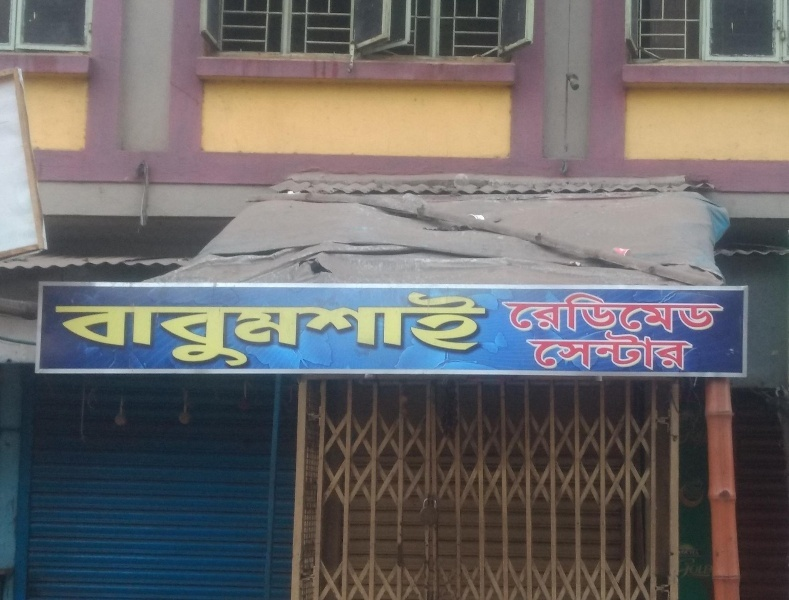text: (65, 290, 80, 368), (81, 290, 96, 368), (97, 290, 112, 368), (113, 290, 128, 368), (129, 290, 144, 368), (145, 290, 160, 368), (161, 290, 176, 368), (177, 290, 192, 368), (193, 290, 208, 368), (209, 290, 224, 368), (225, 290, 240, 368), (241, 290, 256, 368), (257, 290, 272, 368), (273, 290, 288, 368), (289, 290, 304, 368), (305, 290, 320, 368), (321, 290, 336, 368), (337, 290, 352, 368), (353, 290, 368, 368), (369, 290, 384, 368), (385, 290, 400, 368), (401, 290, 416, 368), (417, 290, 432, 368), (433, 290, 448, 368), (449, 290, 464, 368), (465, 290, 480, 368), (50, 290, 64, 368), (529, 328, 544, 372), (545, 328, 560, 372), (561, 328, 576, 372), (577, 328, 592, 372), (593, 328, 608, 372), (609, 328, 624, 372), (625, 328, 640, 372), (641, 328, 656, 372), (657, 328, 672, 372), (673, 328, 688, 372), (497, 293, 512, 336), (513, 293, 528, 336), (529, 293, 544, 336), (545, 293, 560, 336), (561, 293, 576, 336), (577, 293, 592, 336), (593, 293, 608, 336), (609, 293, 624, 336), (625, 293, 640, 336), (641, 293, 656, 336), (657, 293, 672, 336), (673, 293, 688, 336), (689, 293, 704, 336), (705, 293, 720, 336), (481, 290, 489, 368), (689, 328, 695, 372), (721, 293, 726, 336), (525, 328, 528, 372)
